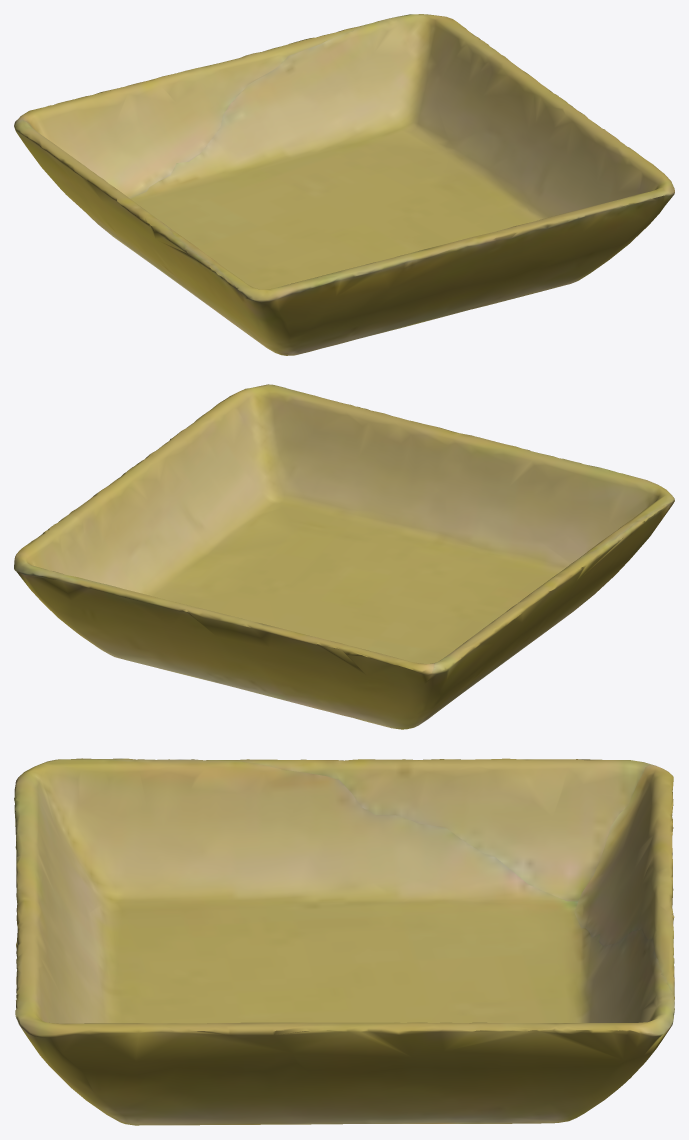
The model's file is Ecoforms_Plant_Saucer_SQ1HARVEST-high.glb.
3 renders of one model, top to bottom at view 1: azimuth 30°, elevation 25°; view 2: azimuth 150°, elevation 25°; view 3: azimuth 270°, elevation 25°, orthographic. The views are drawn at different scales.
Visible parts, largest first — view 1: Ecoforms_Plant_Saucer_SQ1HARVEST; view 2: Ecoforms_Plant_Saucer_SQ1HARVEST; view 3: Ecoforms_Plant_Saucer_SQ1HARVEST.
Boxes of the visible parts, box(x1,y1,x2,y2) form: Ecoforms_Plant_Saucer_SQ1HARVEST: box(14, 14, 674, 355); Ecoforms_Plant_Saucer_SQ1HARVEST: box(14, 384, 674, 729); Ecoforms_Plant_Saucer_SQ1HARVEST: box(14, 758, 674, 1125).
Bounding box in the file's own units: 0.0865 × 0.021 × 0.0865.
Materials: 1 (1 with a texture image).
